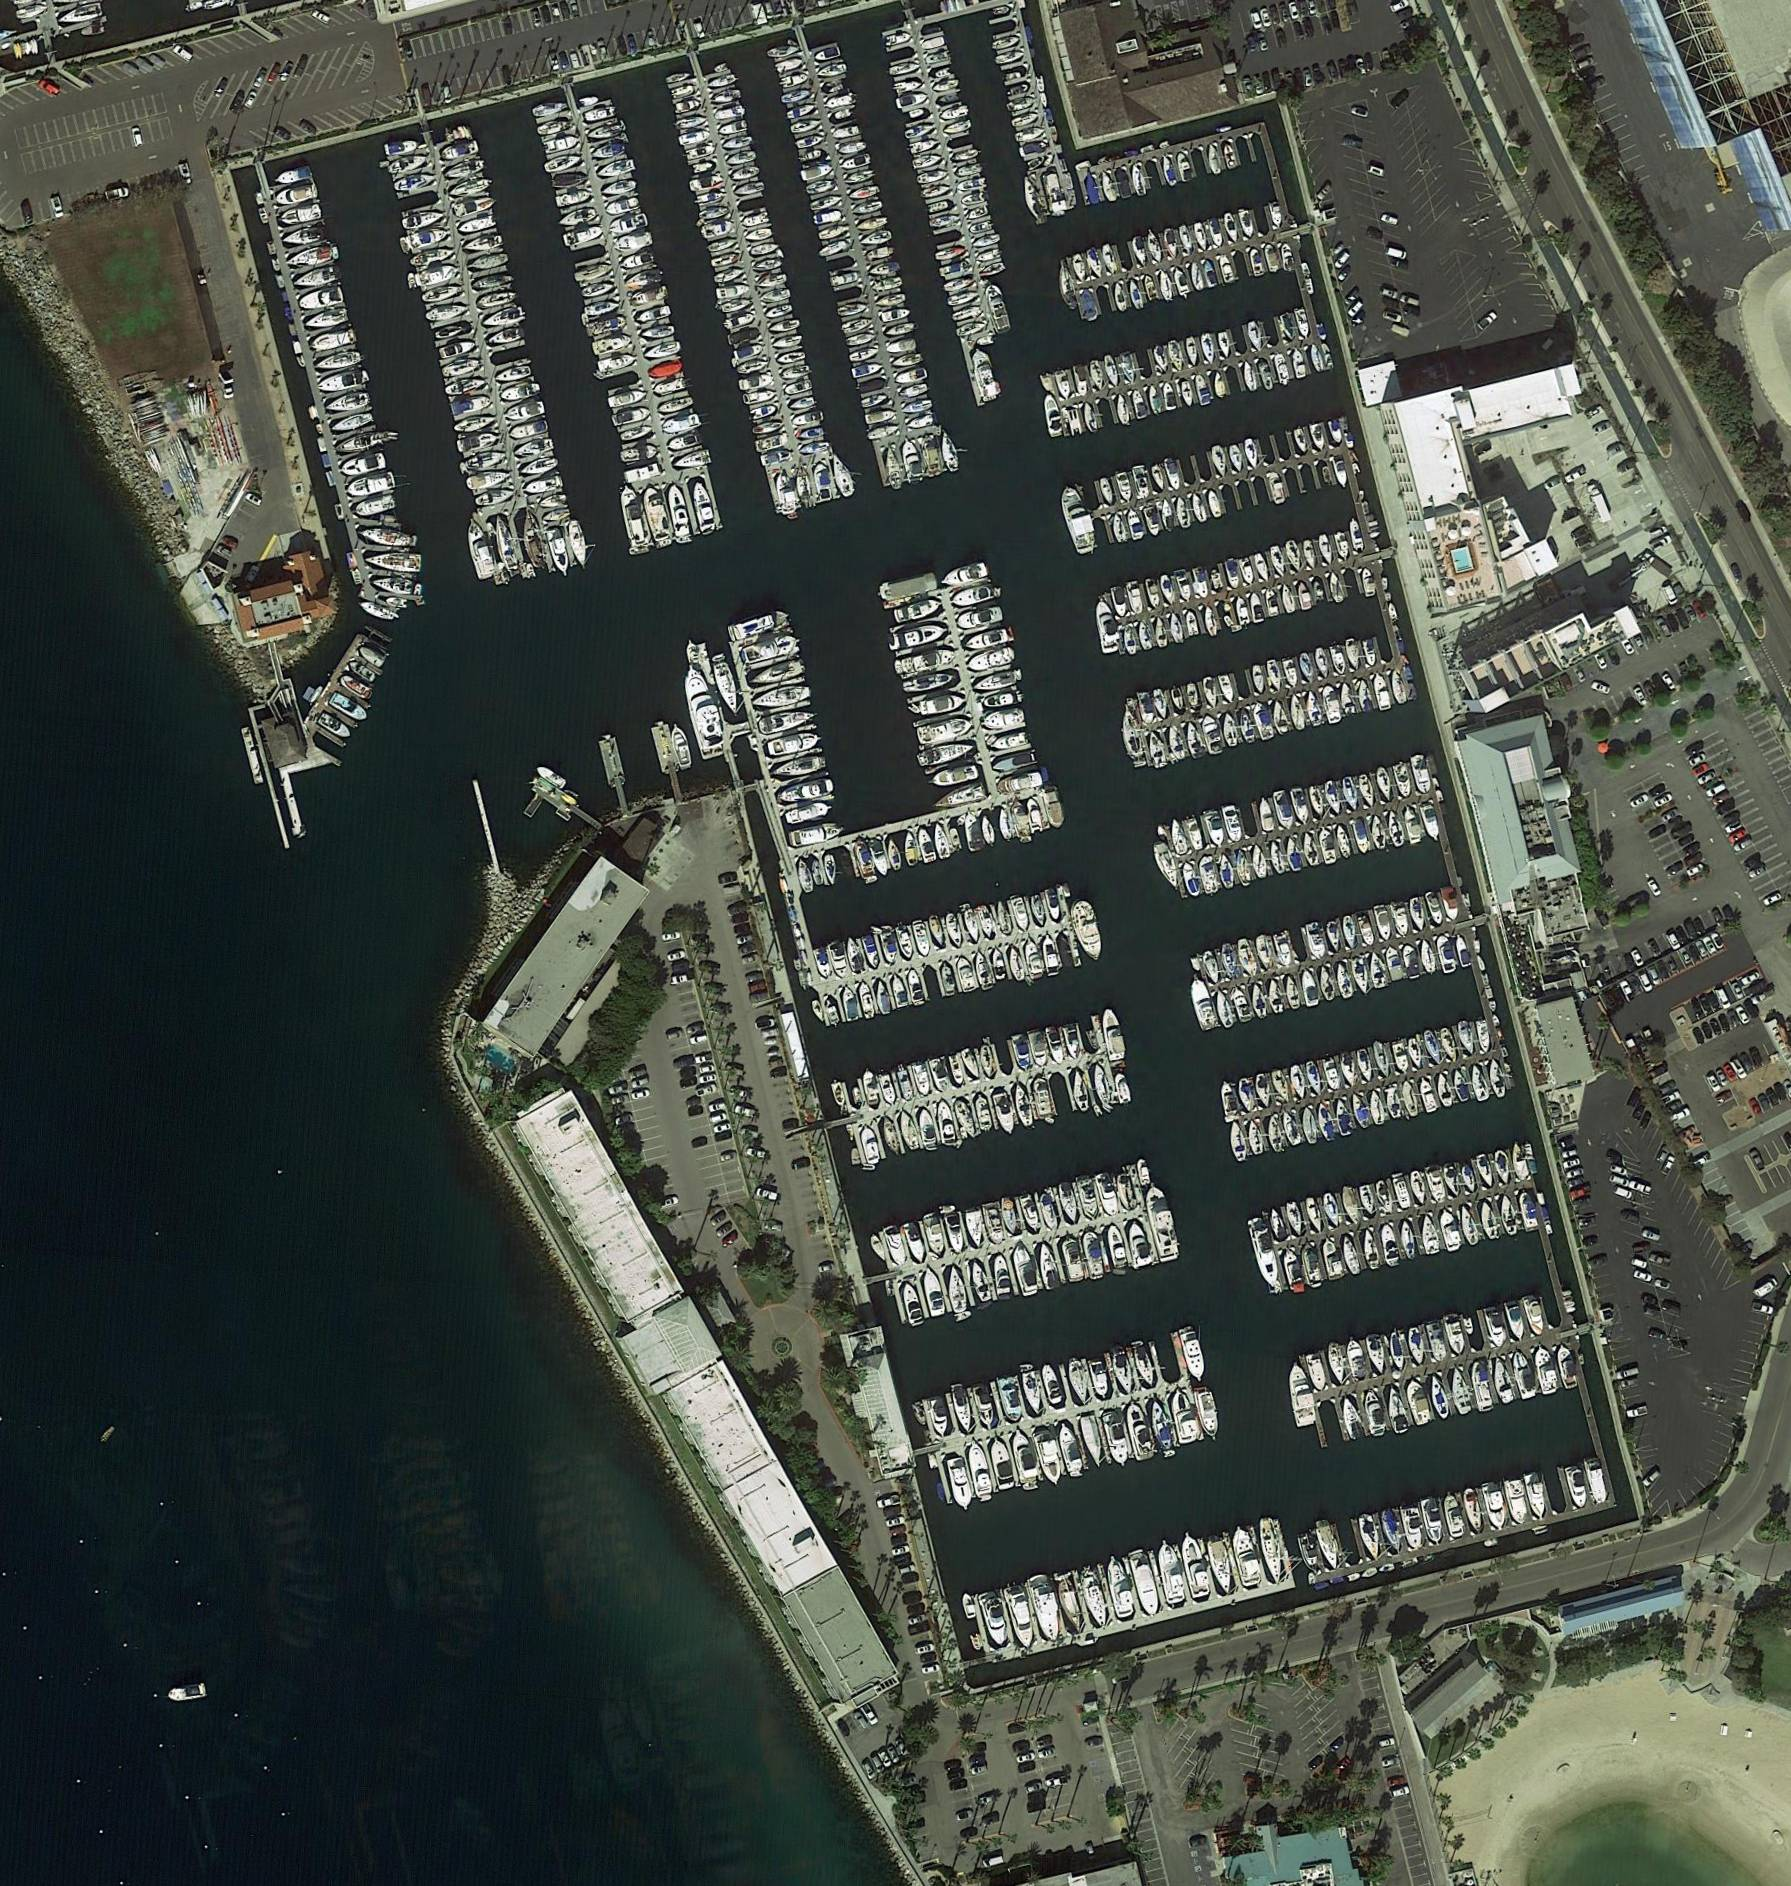harbor: (385, 126, 581, 588), (535, 93, 724, 551), (665, 64, 843, 514), (773, 40, 949, 488), (254, 175, 428, 625), (880, 17, 1039, 402), (909, 1330, 1205, 1510), (958, 1517, 1294, 1670), (865, 1164, 1160, 1335), (825, 1014, 1123, 1172), (1298, 1290, 1576, 1446), (1261, 1147, 1537, 1292), (1299, 1457, 1609, 1585), (1227, 1019, 1507, 1159), (880, 574, 1044, 813), (811, 884, 1082, 1027), (1163, 759, 1439, 899), (1197, 887, 1469, 1026), (1131, 635, 1402, 770), (1072, 418, 1350, 547), (1104, 527, 1375, 657), (1049, 308, 1310, 436), (1064, 204, 1291, 323), (727, 626, 845, 854), (985, 2, 1079, 217), (1076, 121, 1269, 209), (300, 625, 401, 759), (517, 776, 599, 850), (651, 721, 687, 796), (598, 734, 631, 808)
ship: (675, 662, 725, 761), (1055, 482, 1103, 559), (1141, 1182, 1180, 1265), (1067, 896, 1108, 967), (1027, 1574, 1066, 1645), (1247, 1216, 1283, 1290), (1128, 1548, 1163, 1618), (1254, 1516, 1289, 1586), (725, 606, 793, 643), (1283, 1361, 1318, 1430), (1003, 1585, 1039, 1652), (1151, 1537, 1187, 1605), (1177, 1531, 1210, 1600), (461, 517, 497, 583), (709, 653, 744, 717), (741, 631, 805, 667), (1077, 1568, 1113, 1632), (1183, 972, 1220, 1032), (490, 514, 523, 579), (1103, 1554, 1136, 1620), (1229, 1522, 1262, 1588), (1008, 1426, 1040, 1494), (965, 1438, 996, 1504), (751, 680, 813, 714), (757, 704, 820, 738), (976, 1590, 1012, 1649), (894, 645, 958, 677), (618, 482, 648, 549), (641, 485, 673, 547), (887, 620, 949, 652), (1123, 1399, 1155, 1462), (788, 817, 847, 850), (517, 509, 549, 569), (663, 482, 694, 546), (1205, 1537, 1237, 1598), (1167, 1388, 1200, 1445), (916, 714, 975, 746), (1034, 1430, 1066, 1489), (968, 345, 1002, 401), (916, 739, 976, 770), (1101, 1409, 1131, 1470), (1193, 1384, 1224, 1445), (778, 775, 835, 807), (1055, 1580, 1087, 1637), (688, 478, 719, 537), (1178, 1325, 1209, 1384), (1091, 598, 1121, 657), (747, 658, 805, 689), (768, 729, 825, 759), (769, 753, 826, 783), (931, 783, 988, 813), (986, 1435, 1017, 1492), (1077, 1414, 1108, 1472), (284, 241, 342, 271), (981, 281, 1013, 335), (1057, 1421, 1086, 1480), (946, 1457, 976, 1512), (1010, 1241, 1040, 1297), (316, 367, 372, 397), (1097, 1007, 1128, 1063), (1313, 1517, 1343, 1573), (1118, 702, 1146, 759), (1151, 840, 1182, 894), (1146, 1398, 1175, 1453), (291, 263, 343, 293), (566, 519, 594, 573), (359, 524, 416, 551), (919, 1265, 948, 1319), (1468, 1361, 1496, 1414), (902, 670, 958, 697), (1064, 1356, 1092, 1408), (1131, 1340, 1160, 1393), (1480, 1480, 1508, 1532), (328, 690, 370, 726), (828, 451, 858, 500), (323, 387, 372, 418), (971, 669, 1025, 695), (1054, 259, 1081, 313), (545, 529, 574, 579), (784, 798, 835, 827), (919, 690, 970, 719), (1074, 1174, 1103, 1224), (345, 471, 396, 500), (1404, 1377, 1432, 1428), (927, 763, 980, 790), (965, 647, 1017, 674), (1532, 1344, 1559, 1396), (446, 173, 495, 202), (996, 1376, 1025, 1425), (296, 285, 345, 313), (939, 561, 988, 589), (954, 605, 1003, 633), (1510, 1351, 1539, 1399), (894, 598, 944, 625), (971, 1381, 998, 1431), (370, 573, 424, 598), (338, 451, 389, 478), (1490, 1356, 1517, 1406), (365, 549, 423, 573), (1124, 1219, 1153, 1266), (273, 180, 320, 209), (949, 583, 996, 611), (996, 768, 1044, 796), (333, 429, 382, 456), (315, 349, 364, 376), (1035, 1243, 1062, 1292), (852, 837, 879, 886), (1523, 1472, 1550, 1521), (1459, 1487, 1486, 1536), (1384, 1386, 1411, 1435), (1448, 1366, 1473, 1416), (465, 465, 512, 492), (409, 242, 456, 269), (1020, 1369, 1047, 1416), (1094, 1172, 1121, 1219), (1109, 1349, 1136, 1396), (328, 409, 375, 436), (310, 327, 357, 354), (303, 306, 350, 333), (980, 706, 1027, 733), (991, 1091, 1018, 1138), (933, 1098, 959, 1145), (1582, 1458, 1609, 1505), (1503, 1478, 1530, 1526), (1399, 1504, 1426, 1551), (1379, 1509, 1406, 1556), (316, 711, 355, 743), (1060, 1234, 1086, 1283), (944, 1265, 970, 1313), (1439, 1490, 1464, 1539), (1358, 1514, 1384, 1563), (1362, 1389, 1387, 1438), (1426, 1372, 1451, 1421), (951, 1383, 975, 1435), (773, 470, 800, 515), (897, 436, 924, 482), (392, 168, 438, 195), (966, 1258, 993, 1303), (668, 722, 694, 770), (991, 749, 1039, 775), (1008, 798, 1034, 845), (904, 1219, 929, 1266), (1421, 1499, 1446, 1546), (1325, 1340, 1350, 1388), (1040, 392, 1066, 440), (917, 433, 944, 477), (1039, 1361, 1066, 1404), (281, 222, 325, 249), (1338, 1396, 1365, 1440), (385, 152, 431, 177), (414, 263, 460, 288), (927, 1394, 953, 1440), (1018, 1192, 1044, 1238), (1057, 1182, 1082, 1228), (1087, 1357, 1113, 1403), (1040, 785, 1066, 830), (922, 1212, 948, 1258), (1554, 1344, 1579, 1389), (1564, 1465, 1589, 1510), (1438, 1207, 1463, 1253), (1363, 1332, 1389, 1377), (1343, 1335, 1368, 1381), (1299, 1243, 1325, 1288), (1200, 712, 1225, 758), (1234, 936, 1261, 978), (456, 429, 503, 453), (444, 374, 492, 397), (882, 445, 906, 492), (901, 1280, 924, 1327), (1298, 1531, 1321, 1578), (454, 194, 498, 219), (443, 157, 486, 182), (468, 249, 512, 274), (465, 446, 508, 471), (475, 485, 518, 510), (660, 413, 704, 438), (938, 428, 963, 471), (402, 205, 446, 231), (407, 224, 451, 249), (352, 493, 396, 519), (279, 204, 323, 229), (965, 628, 1008, 653), (953, 1096, 978, 1140), (884, 1224, 909, 1268), (1271, 788, 1296, 832), (1443, 1313, 1468, 1357), (1503, 1300, 1528, 1344), (1338, 1234, 1363, 1278), (503, 401, 549, 424), (421, 281, 466, 305), (424, 300, 470, 323), (1104, 1224, 1128, 1270), (990, 1253, 1013, 1298), (897, 1108, 921, 1153), (562, 222, 604, 248), (613, 229, 655, 254), (959, 812, 985, 854), (857, 1123, 882, 1165), (998, 1196, 1023, 1238), (981, 1204, 1007, 1246), (1067, 1069, 1092, 1111), (1419, 802, 1444, 844), (1409, 754, 1434, 796), (1320, 1238, 1345, 1280), (359, 598, 397, 625), (470, 271, 517, 293), (475, 288, 518, 312), (518, 455, 562, 478), (498, 381, 542, 404), (481, 306, 525, 330), (441, 355, 485, 379), (1012, 1083, 1035, 1127), (1030, 1076, 1054, 1120), (1496, 1194, 1520, 1238), (1522, 1295, 1545, 1339), (624, 264, 665, 290), (1305, 1352, 1330, 1393), (1338, 1185, 1363, 1226), (338, 674, 374, 702), (453, 413, 498, 434), (1360, 1228, 1382, 1273), (594, 157, 636, 180), (557, 205, 599, 229), (619, 441, 662, 465), (523, 473, 566, 497), (593, 332, 635, 355), (608, 212, 650, 236), (451, 392, 493, 416), (793, 465, 816, 507), (828, 940, 852, 982), (916, 1106, 939, 1148), (965, 1209, 988, 1251), (943, 1214, 966, 1256), (1305, 919, 1328, 962), (1204, 808, 1227, 850), (1458, 1206, 1481, 1248), (1367, 950, 1390, 992), (1517, 1191, 1540, 1233), (1281, 1248, 1305, 1290), (1426, 1322, 1449, 1364), (1417, 1212, 1441, 1255), (1320, 684, 1343, 726), (1252, 933, 1278, 972), (1422, 1165, 1448, 1204), (880, 1115, 902, 1159), (456, 214, 497, 237), (439, 140, 480, 163), (544, 152, 584, 175), (463, 231, 503, 254), (630, 285, 670, 308), (643, 338, 683, 362), (672, 448, 712, 471), (810, 461, 833, 502), (911, 918, 934, 958), (1298, 968, 1321, 1009), (1384, 808, 1407, 849), (1197, 855, 1220, 896), (1220, 803, 1244, 844), (1476, 1201, 1500, 1241), (1508, 1142, 1532, 1182), (1251, 701, 1274, 741), (572, 261, 614, 283), (513, 438, 555, 460), (508, 419, 550, 441), (608, 387, 650, 409), (598, 352, 640, 374), (1091, 1064, 1113, 1106), (1486, 1058, 1508, 1100), (1406, 1327, 1427, 1369), (1485, 1307, 1507, 1349), (552, 167, 591, 190), (929, 822, 953, 860), (1333, 962, 1357, 1000), (1321, 778, 1345, 817), (1392, 763, 1416, 802), (1167, 817, 1190, 855), (1370, 1041, 1394, 1079), (1145, 731, 1168, 770), (1301, 689, 1325, 727), (355, 643, 389, 670), (1039, 1192, 1060, 1233), (869, 837, 890, 877), (983, 689, 1023, 711), (1022, 936, 1044, 977), (1010, 894, 1032, 935), (1040, 935, 1060, 978), (1214, 990, 1236, 1031), (1289, 785, 1311, 825), (1219, 941, 1241, 982), (1232, 849, 1254, 889), (1316, 825, 1338, 866), (1468, 1063, 1490, 1103), (1436, 935, 1458, 975), (1379, 1224, 1400, 1265), (544, 133, 581, 157), (927, 1058, 951, 1095), (1400, 807, 1424, 844), (1200, 950, 1224, 987), (1269, 1069, 1293, 1106), (1407, 898, 1431, 935), (1229, 1121, 1249, 1164), (1316, 1101, 1337, 1143), (493, 364, 532, 386), (488, 327, 527, 349), (613, 406, 651, 428), (589, 315, 628, 337), (439, 338, 478, 360), (737, 370, 776, 392), (1114, 1174, 1136, 1212), (273, 167, 311, 189), (795, 855, 816, 894), (879, 930, 901, 968), (843, 935, 865, 973), (904, 968, 926, 1007), (990, 731, 1028, 753), (858, 1068, 880, 1106), (973, 1095, 995, 1133), (1028, 1031, 1050, 1069), (1012, 1034, 1034, 1073), (1454, 1019, 1476, 1058), (1247, 982, 1269, 1020), (1230, 985, 1252, 1024), (1340, 775, 1362, 813), (1374, 765, 1395, 803), (1422, 1027, 1444, 1066), (1384, 943, 1406, 982), (1348, 1093, 1370, 1132), (1305, 1196, 1326, 1234), (1183, 719, 1205, 758), (619, 249, 655, 273), (668, 429, 704, 453), (1424, 891, 1448, 926), (1045, 1026, 1066, 1066), (1352, 958, 1372, 999), (1372, 672, 1392, 712), (1400, 1079, 1421, 1120), (646, 359, 683, 381), (754, 433, 791, 455), (688, 172, 725, 194), (954, 955, 976, 992), (916, 827, 938, 864), (971, 950, 993, 987), (1007, 945, 1028, 982), (976, 1042, 998, 1079), (911, 1061, 933, 1098), (1264, 978, 1286, 1015), (1367, 813, 1389, 850), (1215, 854, 1237, 891), (1247, 844, 1269, 881), (1283, 835, 1305, 872), (1288, 1064, 1310, 1101), (1439, 886, 1461, 923), (1321, 1192, 1343, 1229), (1284, 1201, 1306, 1238), (1124, 579, 1146, 616), (1236, 707, 1257, 744), (347, 658, 379, 684), (530, 99, 569, 120), (535, 116, 574, 136), (944, 913, 965, 951), (1316, 965, 1337, 1004), (1367, 1090, 1387, 1128), (1434, 1071, 1454, 1110), (1219, 1079, 1239, 1118), (1374, 903, 1394, 941), (1299, 1106, 1320, 1145), (1392, 1172, 1412, 1211), (1167, 722, 1187, 761), (1288, 694, 1308, 733), (1473, 1019, 1495, 1054), (582, 103, 618, 125), (606, 195, 641, 217), (641, 322, 677, 344), (651, 376, 687, 397), (700, 219, 736, 241), (894, 365, 929, 387), (976, 904, 998, 940), (1273, 933, 1294, 968), (1439, 1027, 1461, 1063), (1390, 903, 1412, 938), (1219, 712, 1241, 748), (1330, 455, 1352, 490), (601, 178, 638, 199), (555, 189, 593, 209), (584, 298, 621, 318), (658, 396, 695, 416), (742, 387, 779, 408), (889, 350, 926, 370), (857, 982, 877, 1019), (862, 935, 882, 972), (840, 985, 860, 1022), (889, 972, 909, 1009), (963, 909, 983, 946), (1023, 796, 1044, 834), (901, 830, 921, 867), (1062, 1024, 1082, 1061), (1283, 973, 1303, 1010), (1182, 860, 1202, 898), (1256, 796, 1276, 834), (1299, 830, 1320, 867), (1355, 1047, 1375, 1084), (1417, 1078, 1438, 1115), (1236, 1078, 1256, 1115), (1400, 945, 1421, 982), (1281, 1110, 1301, 1147), (1389, 1332, 1407, 1372), (1399, 1219, 1417, 1260), (1273, 350, 1293, 387), (1156, 497, 1177, 534), (1173, 493, 1193, 530), (385, 136, 419, 158), (1357, 775, 1379, 808), (800, 162, 833, 184), (1266, 471, 1288, 505), (1335, 1098, 1353, 1137), (1266, 1115, 1284, 1153), (587, 123, 623, 143), (591, 141, 626, 162), (581, 280, 616, 300), (636, 305, 672, 325), (759, 446, 795, 466), (715, 281, 751, 301), (895, 926, 916, 962), (874, 978, 894, 1014), (938, 962, 958, 997), (927, 914, 948, 950), (1044, 887, 1064, 923), (1357, 914, 1377, 950), (1306, 785, 1326, 820), (1268, 840, 1288, 876), (1350, 818, 1370, 854), (1254, 1074, 1274, 1110), (1305, 1061, 1325, 1096), (1338, 1052, 1358, 1088), (1246, 1120, 1266, 1155), (1417, 938, 1438, 973), (1476, 1155, 1496, 1191), (1409, 1170, 1429, 1206), (1145, 231, 1165, 266), (1109, 584, 1129, 620), (1316, 532, 1337, 567), (1284, 539, 1305, 574), (1269, 544, 1289, 579), (1353, 679, 1374, 714), (1269, 701, 1289, 736), (1246, 318, 1266, 354), (1241, 359, 1261, 394), (1113, 392, 1133, 428), (1119, 350, 1140, 386), (1103, 354, 1123, 389), (1131, 465, 1151, 500), (1210, 445, 1230, 480), (995, 899, 1013, 936), (1340, 914, 1358, 951), (1389, 670, 1407, 707), (860, 227, 894, 248), (727, 327, 761, 347), (759, 286, 793, 306), (821, 854, 842, 887), (1028, 894, 1049, 928), (1113, 1071, 1133, 1105), (961, 1047, 981, 1081), (1200, 677, 1220, 711), (1321, 1058, 1342, 1091), (1390, 1041, 1411, 1074), (1451, 1068, 1471, 1101), (1493, 1152, 1513, 1185), (1443, 1164, 1463, 1197), (1374, 1179, 1394, 1212), (1099, 242, 1119, 276), (1236, 207, 1256, 241), (810, 192, 843, 212), (791, 116, 825, 136), (954, 318, 988, 338), (895, 89, 929, 109), (943, 274, 976, 295), (948, 288, 981, 308), (1347, 517, 1367, 551), (1326, 571, 1347, 605), (1173, 569, 1193, 603), (1087, 359, 1108, 392), (1198, 332, 1219, 365), (1167, 340, 1187, 374), (1109, 512, 1129, 546), (1242, 438, 1262, 471), (885, 837, 904, 872), (990, 946, 1008, 982), (879, 1073, 897, 1108), (1325, 919, 1343, 955), (1266, 658, 1284, 694), (1335, 823, 1353, 859), (1384, 1084, 1402, 1120), (1453, 933, 1471, 968), (865, 423, 901, 441), (1338, 680, 1357, 716), (1163, 456, 1182, 492), (1294, 306, 1313, 342), (1126, 507, 1145, 542), (752, 418, 784, 438), (710, 88, 742, 108), (434, 322, 466, 342), (816, 61, 848, 81), (1343, 638, 1363, 670), (1406, 1037, 1426, 1069), (1013, 125, 1045, 145), (1005, 94, 1037, 115), (1071, 253, 1091, 285), (842, 315, 874, 335), (816, 239, 848, 259), (818, 222, 850, 242), (788, 99, 820, 120), (1136, 694, 1156, 726), (712, 266, 746, 285), (840, 153, 874, 172), (852, 199, 885, 217), (869, 259, 902, 278), (724, 312, 757, 330), (678, 128, 712, 147), (736, 357, 769, 376), (756, 273, 789, 291), (995, 808, 1013, 842), (897, 1069, 916, 1103), (948, 1054, 966, 1088), (1313, 647, 1331, 680), (1298, 652, 1316, 685), (1187, 818, 1205, 852), (1205, 143, 1224, 177), (1082, 172, 1101, 205), (1131, 236, 1150, 269), (1161, 227, 1180, 261), (779, 88, 813, 106), (916, 167, 949, 185), (929, 212, 963, 231), (1247, 591, 1266, 625), (1168, 611, 1187, 645), (1151, 616, 1170, 650), (1151, 689, 1170, 722), (1193, 374, 1212, 408), (1143, 505, 1161, 539), (1190, 492, 1209, 525), (1358, 567, 1379, 598), (1151, 345, 1172, 376), (619, 424, 655, 441), (1224, 210, 1241, 246), (539, 492, 571, 510), (793, 409, 825, 428), (710, 251, 742, 269), (848, 184, 880, 202), (872, 274, 904, 293), (885, 337, 917, 355), (897, 382, 929, 401), (901, 397, 933, 416), (732, 342, 764, 360), (725, 148, 757, 167), (779, 364, 811, 382), (769, 318, 801, 337), (751, 241, 783, 259), (699, 204, 731, 222), (732, 180, 764, 199), (729, 165, 761, 184), (825, 93, 857, 111), (1268, 1207, 1286, 1239), (1219, 674, 1237, 706), (1160, 157, 1178, 189), (1099, 172, 1118, 204), (1054, 370, 1072, 402), (1262, 242, 1281, 274), (1086, 248, 1104, 280), (1172, 264, 1190, 296), (1192, 222, 1210, 254), (865, 408, 897, 426), (852, 360, 884, 379), (848, 345, 880, 364), (837, 300, 869, 318), (806, 177, 838, 195), (768, 42, 800, 61), (904, 121, 936, 140), (934, 244, 966, 263), (951, 305, 983, 323), (1072, 365, 1091, 397), (1192, 567, 1210, 599), (1279, 583, 1298, 615), (1262, 586, 1281, 618), (1136, 620, 1155, 652), (1301, 541, 1320, 573), (1081, 401, 1099, 433), (1183, 337, 1202, 369), (1289, 349, 1308, 381), (1116, 471, 1135, 503), (1205, 488, 1224, 520), (781, 71, 810, 91), (845, 168, 879, 185), (771, 333, 805, 350), (980, 815, 996, 849), (1156, 268, 1173, 301), (1178, 224, 1195, 258), (887, 61, 921, 77), (1145, 578, 1161, 611), (1202, 605, 1219, 638), (1224, 557, 1241, 591), (838, 138, 869, 157), (687, 143, 717, 162), (744, 226, 774, 244), (1330, 647, 1348, 677), (1281, 658, 1299, 689), (1358, 1185, 1377, 1216), (1010, 111, 1040, 130), (990, 34, 1020, 52), (939, 104, 970, 123), (912, 153, 943, 172), (847, 330, 877, 349), (813, 209, 843, 227), (922, 182, 953, 200), (1333, 532, 1352, 562), (1254, 552, 1273, 583), (1279, 313, 1298, 344), (1210, 370, 1229, 401), (1099, 477, 1118, 507), (1227, 445, 1246, 475), (540, 507, 572, 524), (800, 440, 832, 456), (857, 216, 889, 232), (875, 291, 907, 308), (885, 322, 917, 338), (720, 296, 752, 313), (714, 104, 746, 121), (677, 115, 709, 131), (763, 305, 795, 322), (815, 950, 832, 982), (1175, 152, 1192, 184), (1129, 163, 1146, 195), (995, 49, 1027, 66), (1279, 241, 1296, 273), (1128, 278, 1145, 310), (1113, 281, 1129, 313), (1188, 259, 1205, 291), (1200, 258, 1217, 290), (1209, 217, 1225, 249), (956, 177, 988, 194), (1234, 594, 1251, 626), (1160, 574, 1177, 606), (1131, 389, 1148, 421), (1257, 360, 1274, 392), (865, 244, 894, 263), (778, 349, 806, 367), (813, 45, 842, 64), (1459, 1165, 1478, 1194), (776, 56, 805, 74), (1247, 248, 1266, 276), (796, 133, 825, 152), (885, 30, 914, 49), (1294, 581, 1313, 610), (1178, 381, 1197, 409), (784, 379, 815, 396), (882, 306, 912, 323), (722, 135, 752, 152), (752, 258, 783, 274), (697, 190, 727, 207), (1268, 200, 1284, 231), (943, 120, 973, 136), (1219, 254, 1236, 285), (909, 138, 939, 155), (971, 232, 1002, 249), (1239, 557, 1256, 588), (1141, 274, 1160, 301), (788, 396, 816, 413), (709, 236, 737, 253), (906, 414, 934, 431), (833, 125, 862, 141), (719, 120, 747, 136), (741, 212, 769, 229), (1362, 640, 1379, 669), (1251, 667, 1268, 695), (860, 392, 889, 409), (1123, 625, 1140, 653), (1293, 428, 1310, 456), (1168, 687, 1187, 712), (707, 74, 737, 89), (1310, 344, 1325, 374), (1146, 384, 1161, 414), (675, 98, 702, 115), (672, 84, 699, 101), (1135, 1159, 1151, 1185), (1185, 684, 1202, 711), (895, 77, 922, 94), (975, 248, 1002, 264), (1183, 610, 1200, 637), (1217, 332, 1234, 359), (1150, 465, 1167, 492), (1310, 424, 1326, 451), (1326, 419, 1343, 446), (961, 1591, 976, 1620), (933, 77, 961, 93), (752, 402, 778, 419), (832, 1083, 848, 1108), (968, 219, 993, 236), (953, 148, 980, 163), (956, 163, 983, 178), (1161, 382, 1177, 409), (921, 35, 944, 52), (1222, 145, 1237, 170), (926, 51, 951, 66), (798, 428, 825, 441), (961, 192, 985, 207), (965, 205, 988, 221), (694, 160, 715, 175), (1049, 126, 1060, 145), (1362, 1568, 1379, 1580), (1463, 1319, 1475, 1335), (1044, 109, 1055, 126), (1039, 93, 1050, 109), (1379, 1564, 1395, 1574), (1348, 1573, 1362, 1581)
